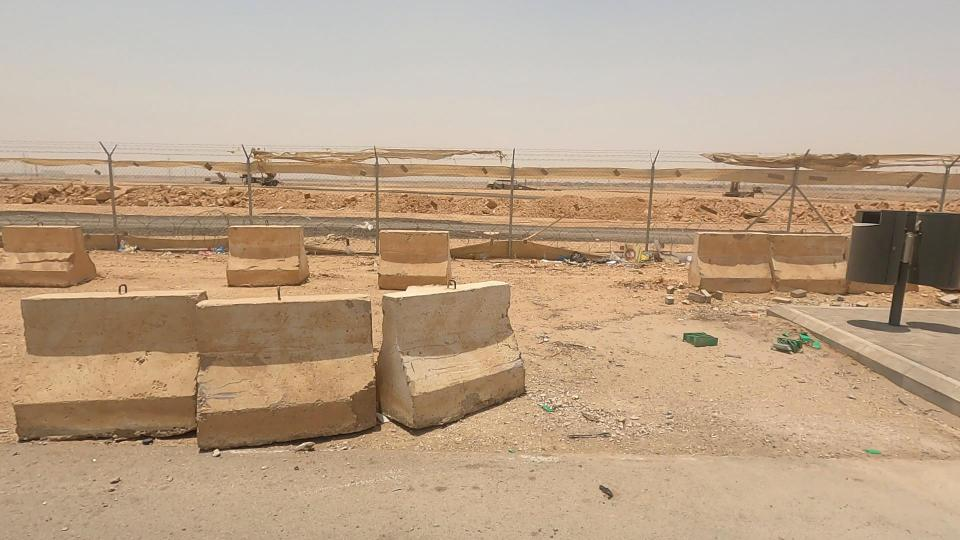GARBAGE: (725, 306, 850, 385), (635, 300, 752, 373), (589, 221, 693, 291), (524, 227, 608, 296), (170, 219, 242, 280), (87, 223, 153, 271), (328, 208, 398, 251), (578, 242, 642, 287), (349, 397, 408, 441), (155, 235, 180, 268)
